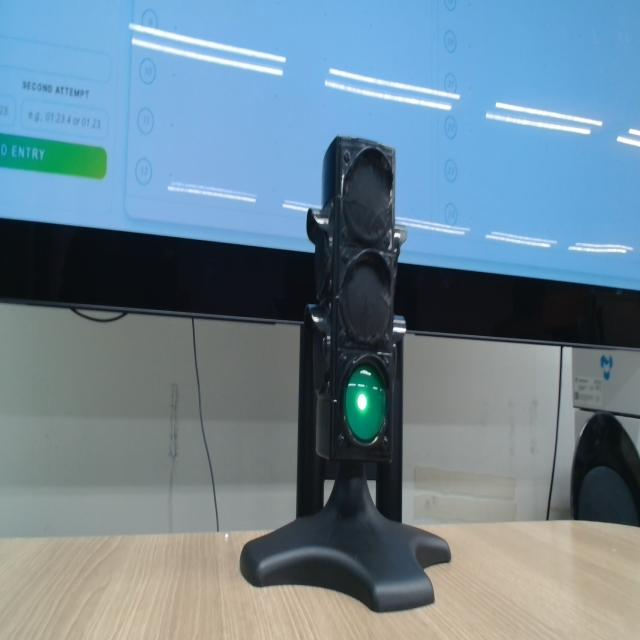green_light: (344, 366, 386, 443)
